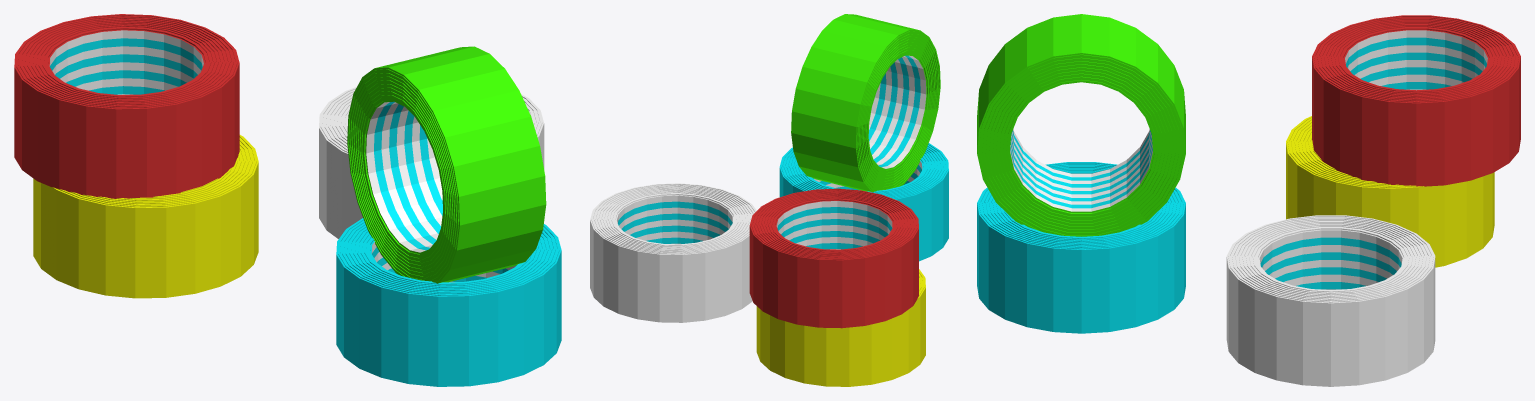
Rendered from Tape.glb.
3 views of the same model, side by side, from view 1: azimuth 30°, elevation 25°; view 2: azimuth 150°, elevation 25°; view 3: azimuth 270°, elevation 25° (orthographic). The views are drawn at different scales.
Visible parts, largest first — view 1: Cylinder006, Cylinder010, Cylinder008, Cylinder009, Cylinder007; view 2: Cylinder006, Cylinder010, Cylinder007, Cylinder009, Cylinder008; view 3: Cylinder007, Cylinder010, Cylinder006, Cylinder008, Cylinder009.
Part boxes in pixels (x1=…): Cylinder006: x1=347, y1=46, x2=546, y2=283; Cylinder010: x1=14, y1=14, x2=239, y2=198; Cylinder008: x1=336, y1=218, x2=561, y2=386; Cylinder009: x1=33, y1=135, x2=258, y2=298; Cylinder007: x1=319, y1=87, x2=544, y2=238; Cylinder006: x1=791, y1=14, x2=940, y2=192; Cylinder010: x1=749, y1=188, x2=918, y2=328; Cylinder007: x1=590, y1=183, x2=756, y2=322; Cylinder009: x1=756, y1=269, x2=925, y2=386; Cylinder008: x1=779, y1=143, x2=948, y2=261; Cylinder007: x1=1226, y1=215, x2=1435, y2=386; Cylinder010: x1=1312, y1=15, x2=1520, y2=186; Cylinder006: x1=977, y1=14, x2=1185, y2=236; Cylinder008: x1=977, y1=162, x2=1185, y2=333; Cylinder009: x1=1286, y1=116, x2=1494, y2=267.
Size of the model in its own units: 368842 by 215078 by 413782.
